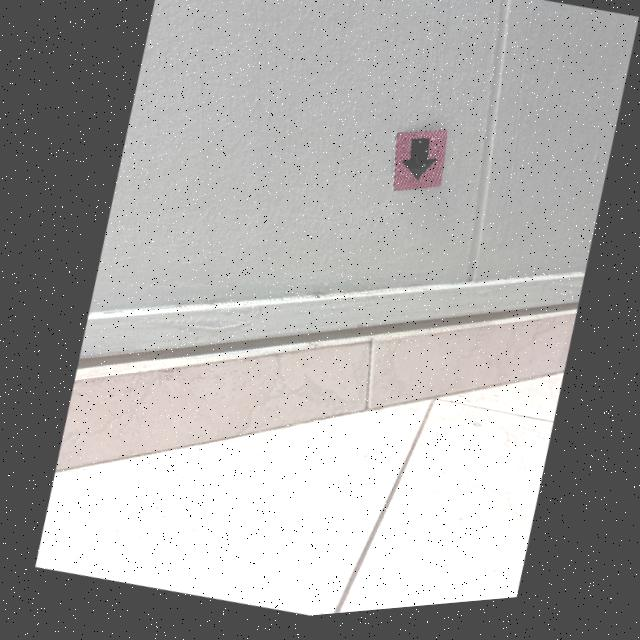DOWN: (398, 146, 434, 187)
